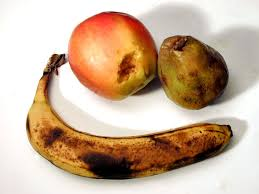damaged_apple: (70, 12, 160, 97), (153, 35, 238, 109)
